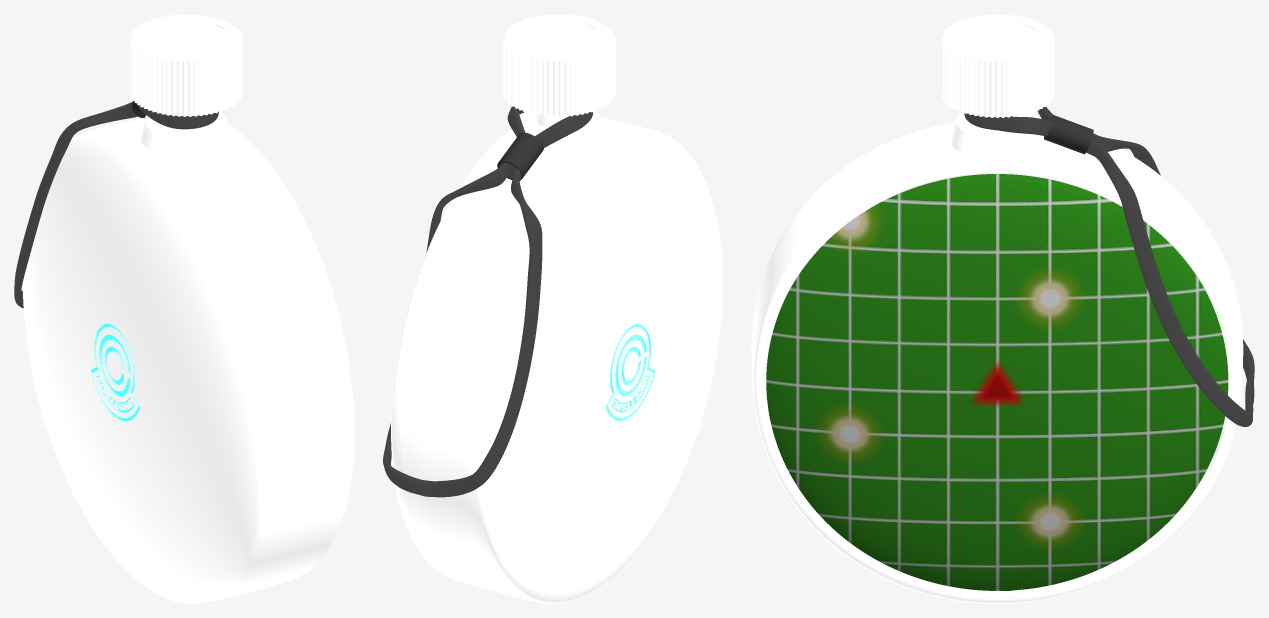
Rendered from radar.glb.
The picture shows the model from 3 angles, left to right: view 1: azimuth 30°, elevation 25°; view 2: azimuth 150°, elevation 25°; view 3: azimuth 270°, elevation 25°; orthographic projection.
Visible parts, largest first — view 1: Boole_1, tapon, cuerda, Boole_1_2; view 2: Boole_1, tapon, cuerda, Boole_1_2, tubocuerda; view 3: Boole_1, tapon, cuerda, Boole_1_2, tubocuerda.
Boxes of the visible parts, x1,y1,x2,y2 form: Boole_1: [23, 118, 354, 603]; tapon: [129, 14, 243, 116]; cuerda: [14, 102, 218, 308]; Boole_1_2: [140, 111, 230, 159]; Boole_1: [391, 117, 722, 603]; tapon: [502, 14, 615, 116]; cuerda: [383, 106, 593, 497]; Boole_1_2: [514, 110, 605, 159]; tubocuerda: [497, 132, 543, 179]; Boole_1: [751, 122, 1243, 603]; tapon: [940, 14, 1054, 117]; cuerda: [964, 107, 1254, 426]; Boole_1_2: [951, 112, 1043, 158]; tubocuerda: [1044, 115, 1093, 154].
Size of the model in its own units: 1.83 by 6.88 by 5.75.
Materials: 5 (2 with a texture image).
